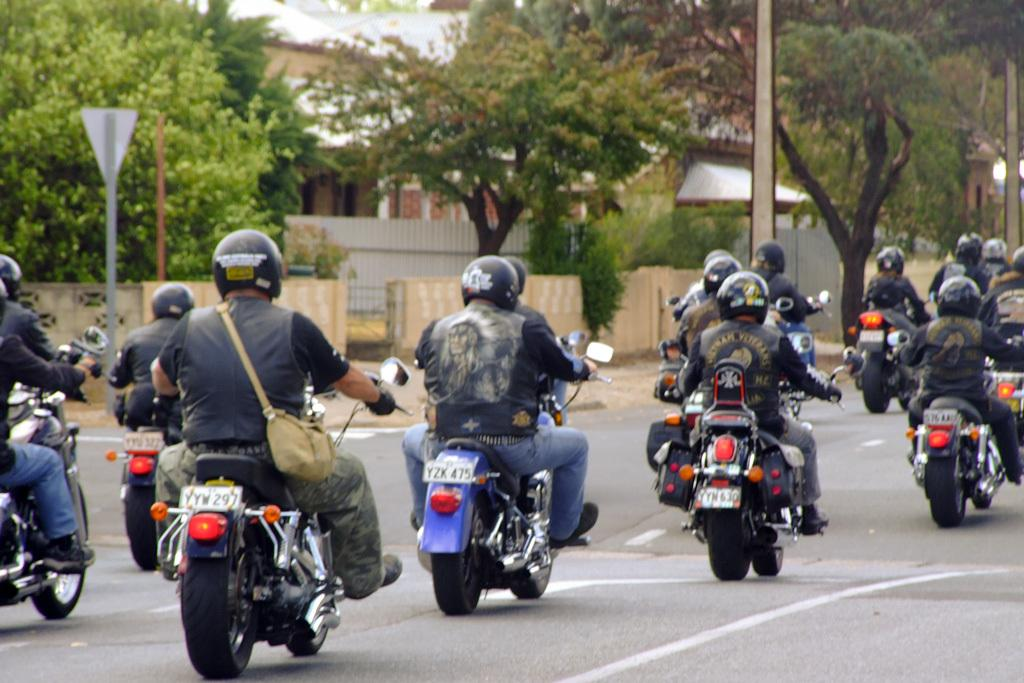helmet: (212, 228, 283, 302), (460, 255, 520, 315), (716, 270, 770, 327), (936, 275, 982, 321), (150, 282, 196, 323), (703, 255, 744, 299), (755, 241, 786, 275), (954, 231, 984, 266), (876, 245, 905, 277), (982, 237, 1008, 264)
